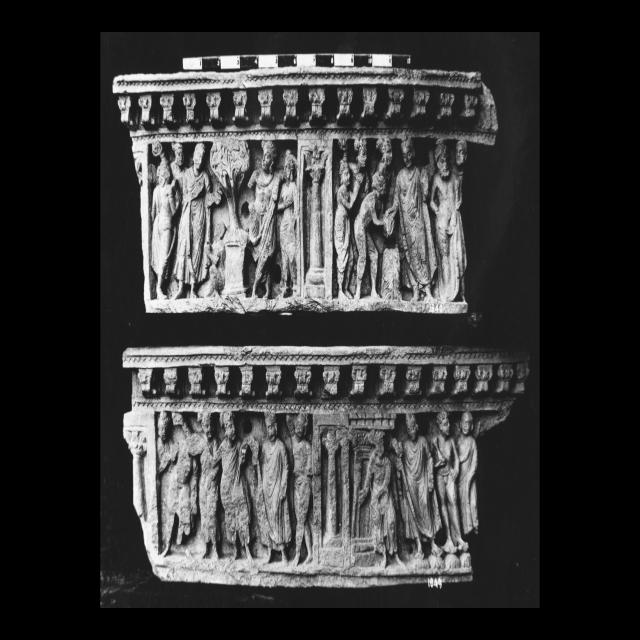buddha-standing: (384, 138, 436, 300), (174, 142, 221, 298), (391, 413, 441, 559), (214, 411, 258, 562)
